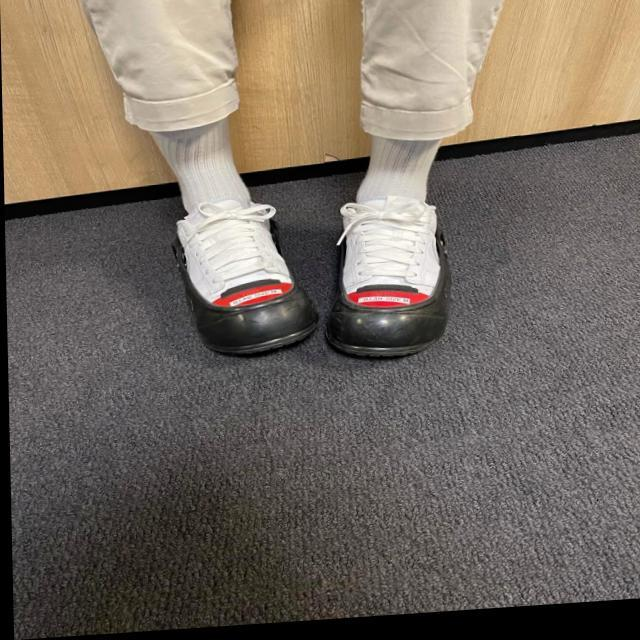shoes: (175, 208, 316, 364), (327, 212, 458, 366)
